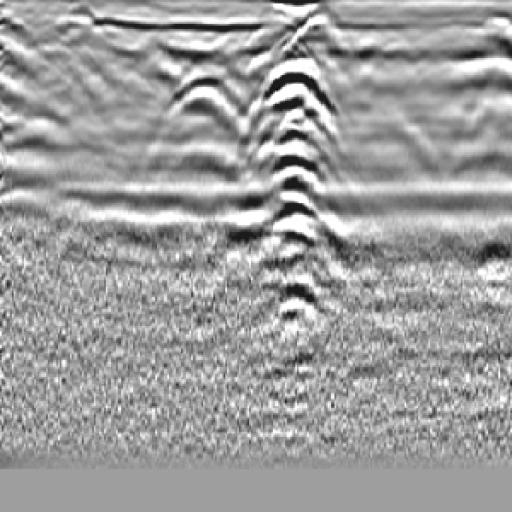metalic: (257, 45, 333, 335)
nonmetalic: (145, 69, 264, 179)
